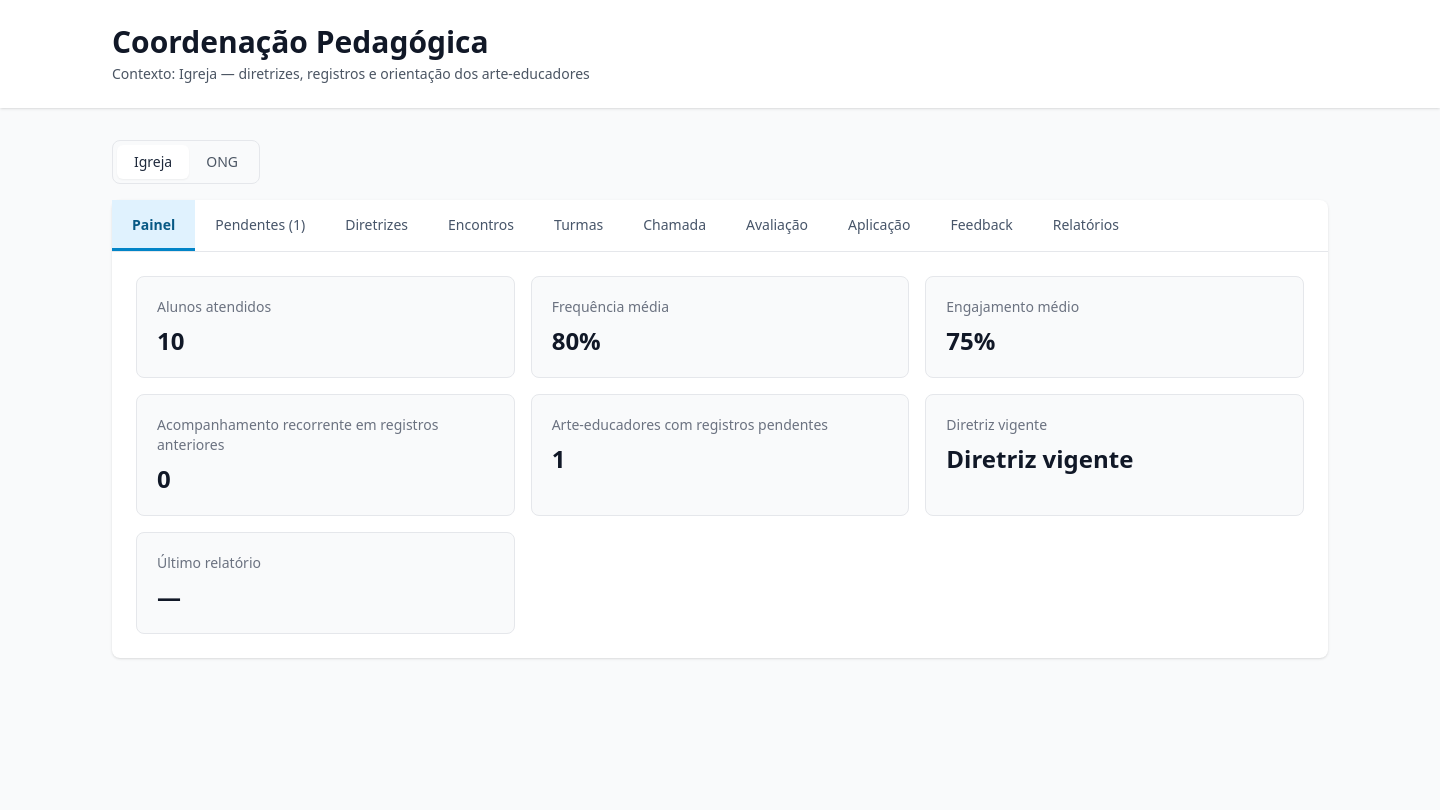
PedagogyManagementPage pending educators tab › opens the pending list from the dashboard card
Expected: the text "Arte-educadores com registros pendentes" is shown, x1=552 y1=415 x2=828 y2=434
Click the button "Arte-educadores com registros pendentes 1".
click(690, 425)  # box x1=531 y1=394 x2=909 y2=516
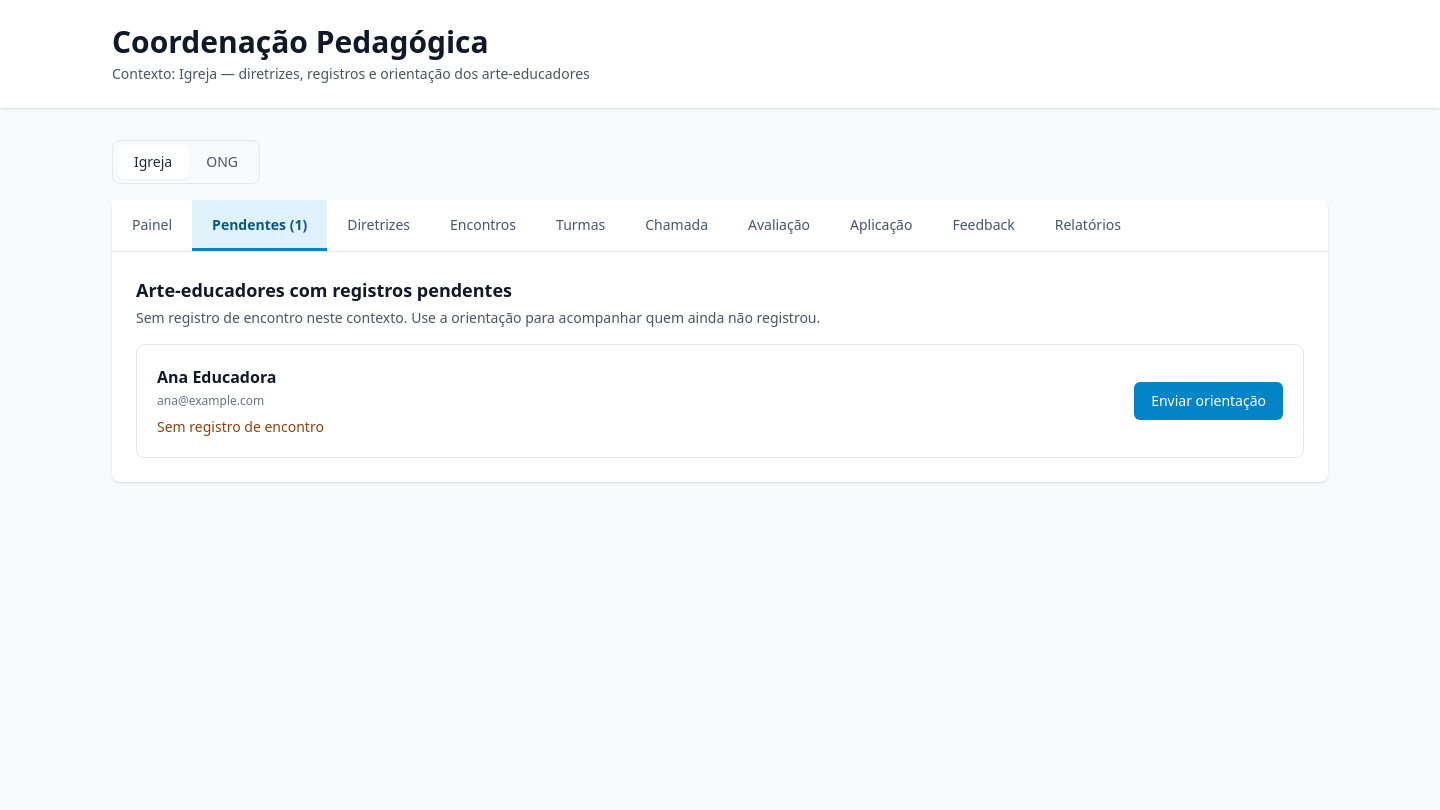
Result: the heading "Ana Educadora" is shown at x1=157 y1=366 x2=276 y2=388
Result: the button "Enviar orientação" is shown at x1=1134 y1=382 x2=1283 y2=420
